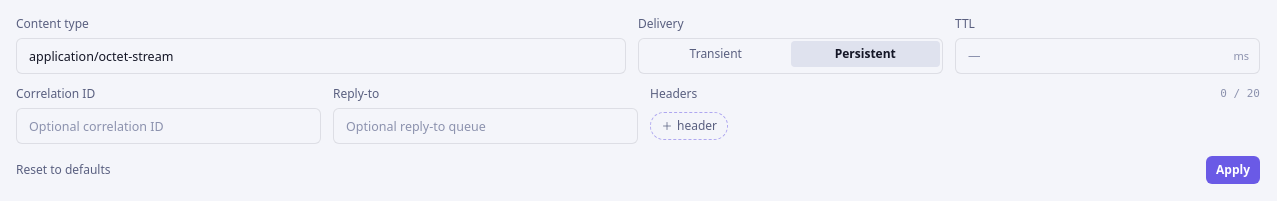
Test: apply and reset › restores the defaults on Reset
Type "orders.reply" into the field labelled "Reply-to".
click(486, 126); type("orders.reply")  # box x1=333 y1=108 x2=638 y2=144
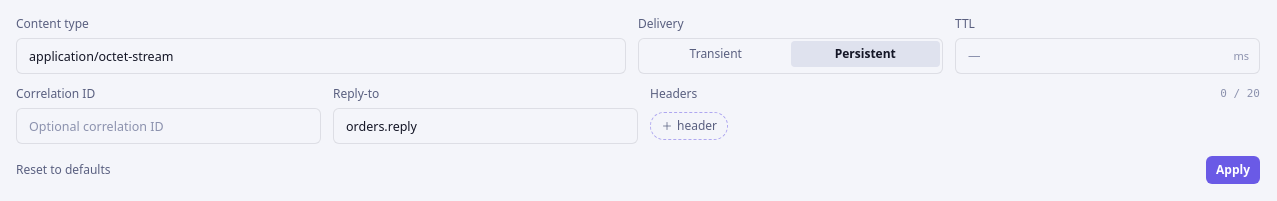
Click the button "Reset to defaults".
click(63, 170)  # box x1=16 y1=162 x2=110 y2=178
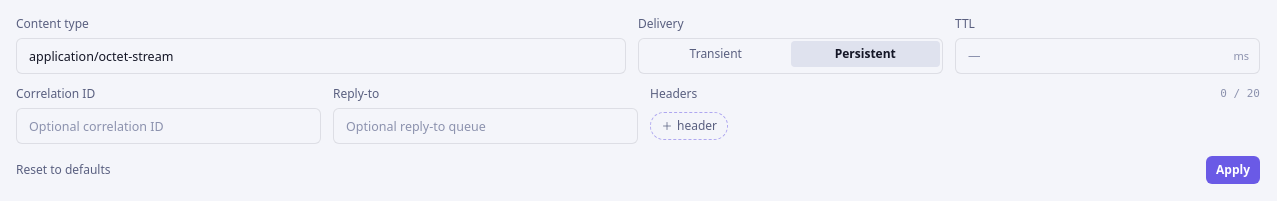
Expected: the field labelled "Content type" holds "application/octet-stream", x1=16 y1=38 x2=626 y2=74
Expected: the field labelled "Reply-to" is empty, x1=333 y1=108 x2=638 y2=144
